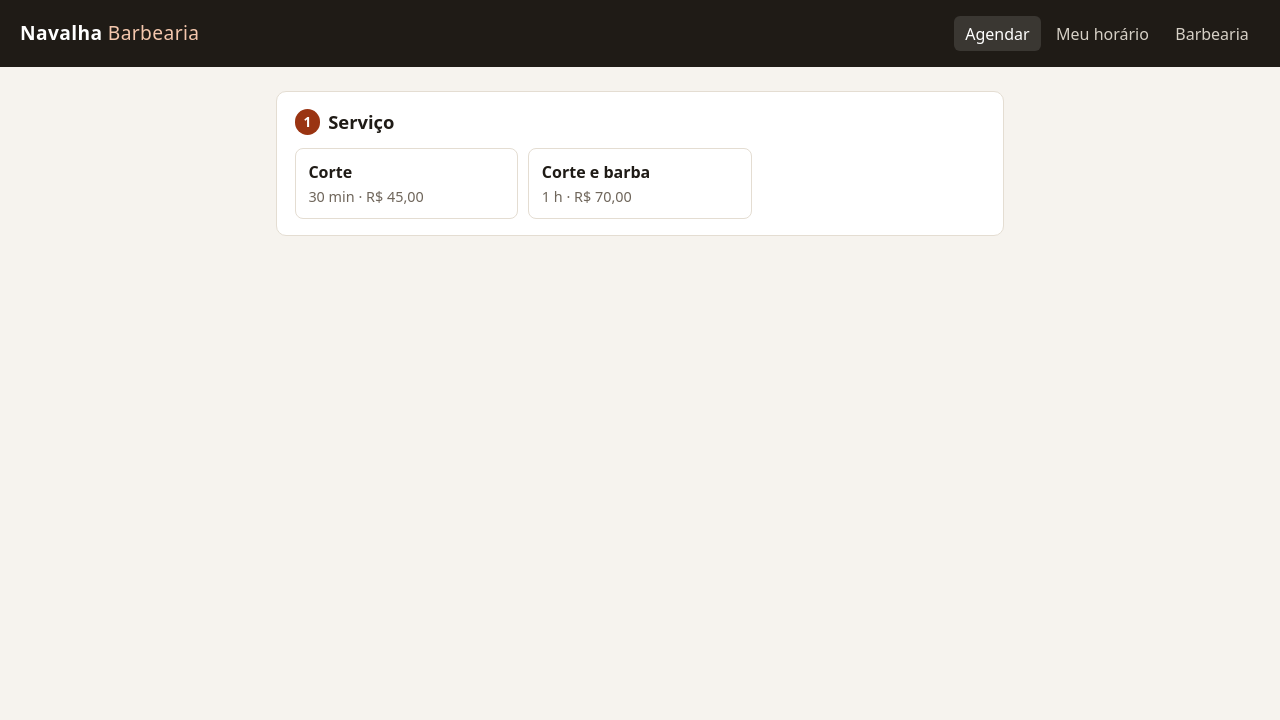
Test: marcar horário › horário ocupado por outra pessoa: avisa e recarrega a lista
This screenshot has width=1280, height=720.
Click the button "Corte 30 min · R$ 45,00".
click(407, 184)  # box [295,148,518,219]
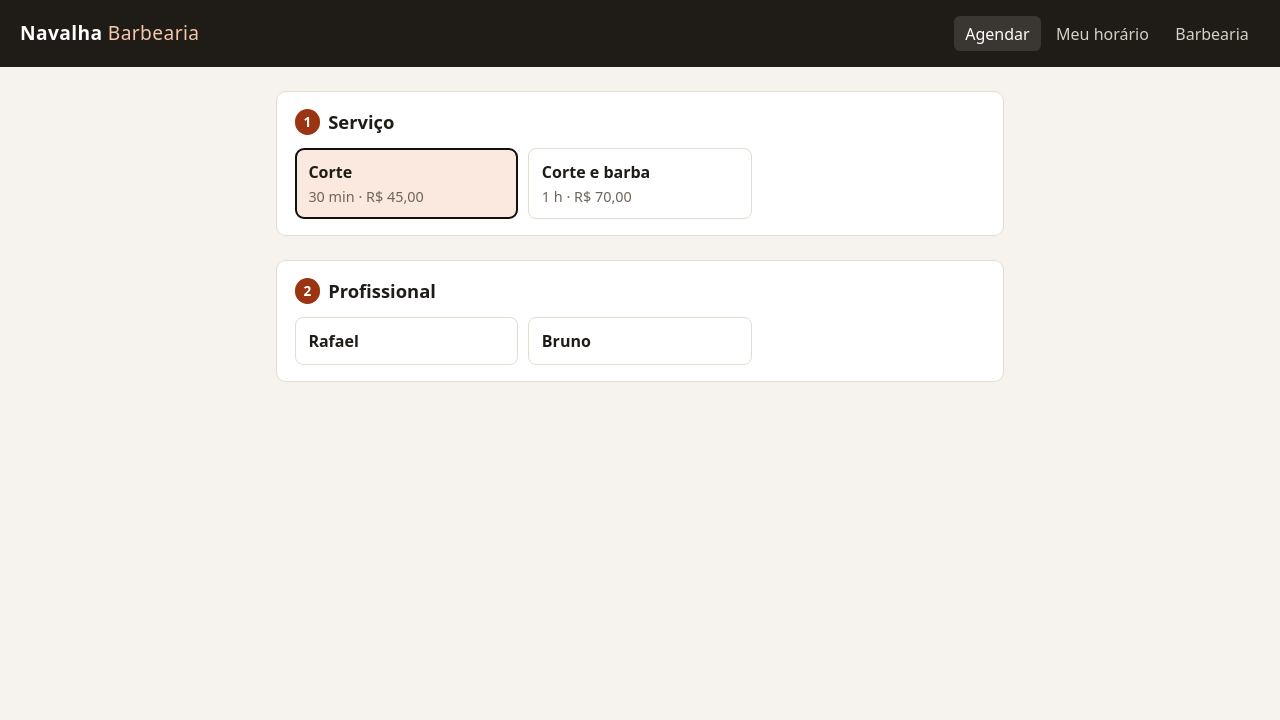
Click the button "Rafael".
click(407, 341)  # box [295,317,518,365]
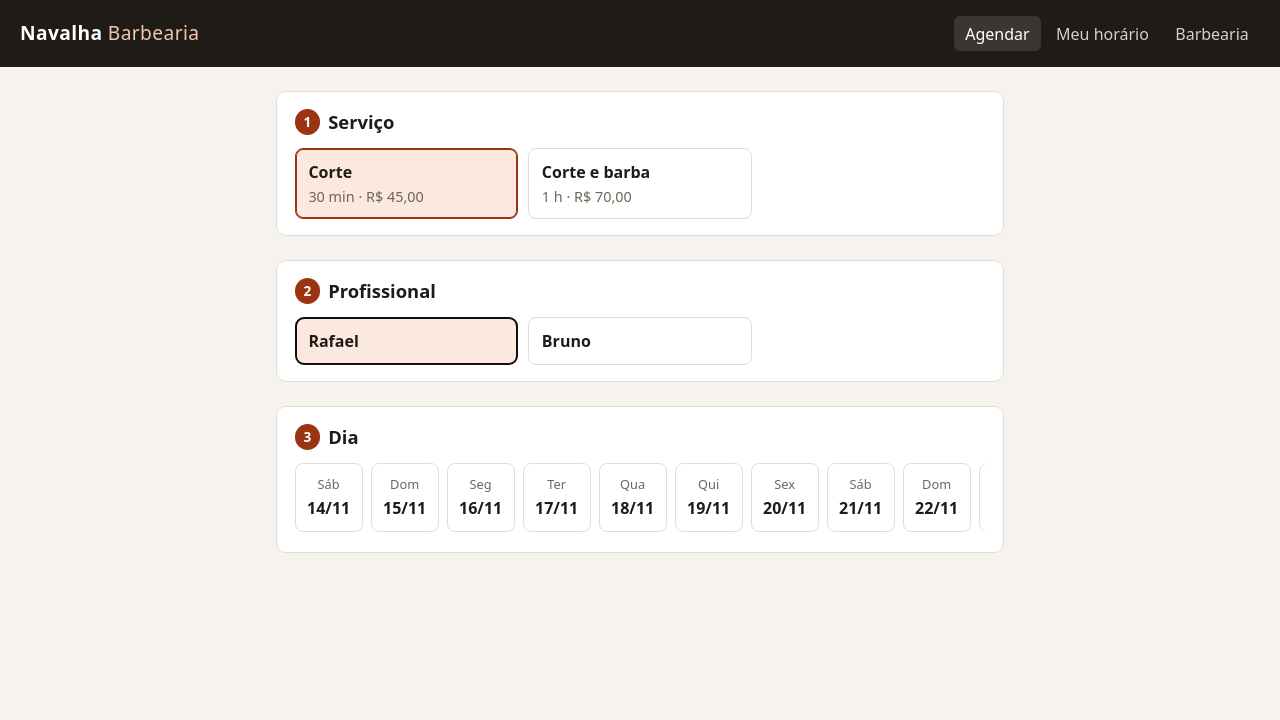
Click the button "dom 15/11".
click(405, 498)  # box [371,463,439,532]
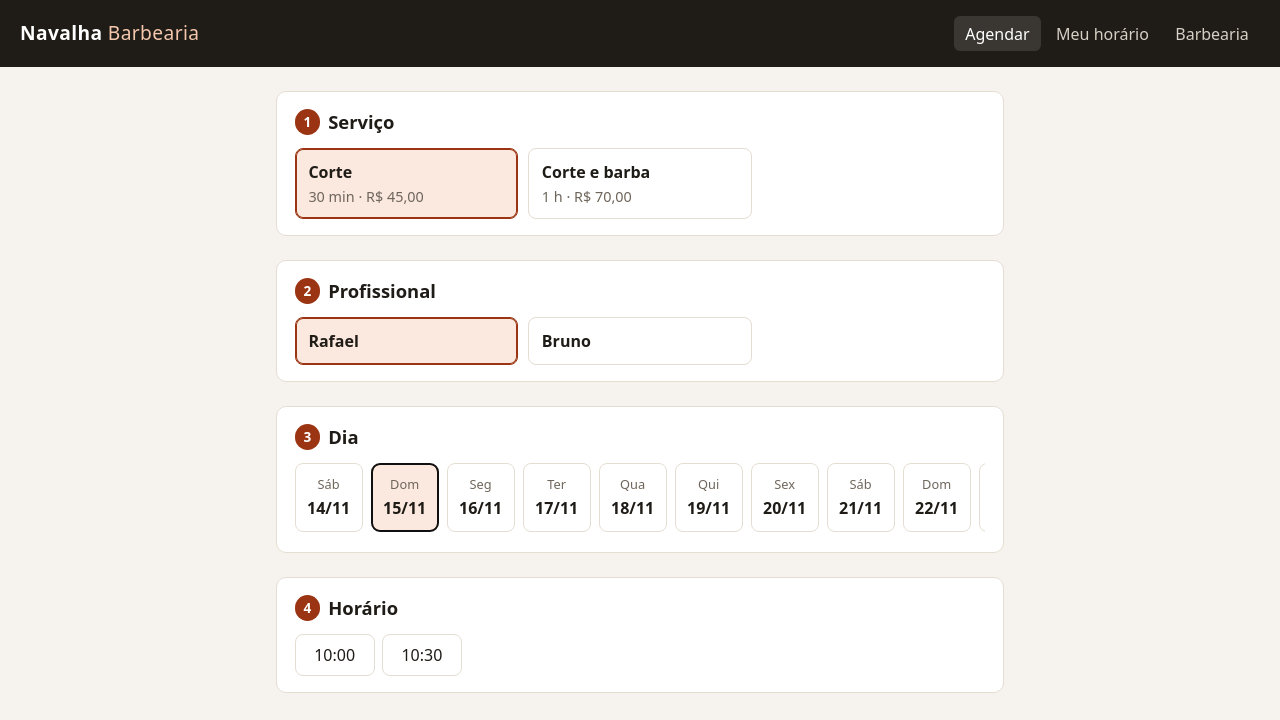
Click the button "10:00".
click(335, 655)  # box [295,634,375,676]
(page scrolled)
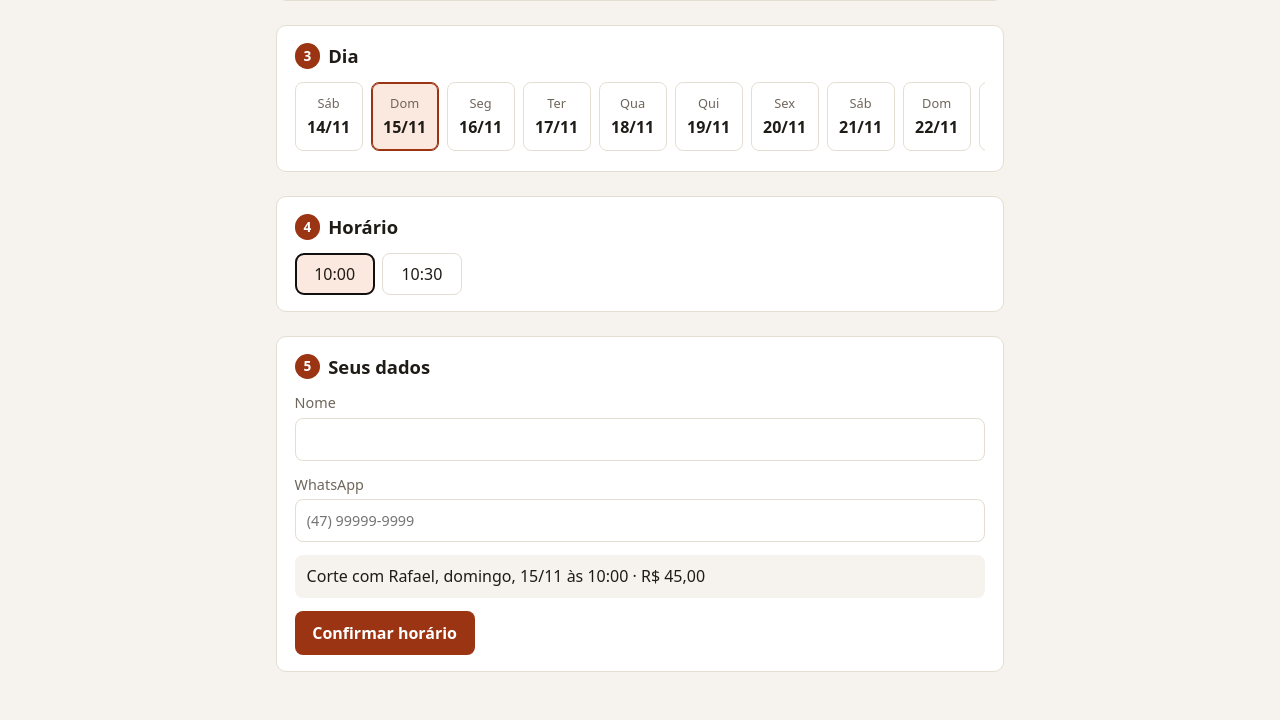
Type "Lobo" into the field labelled "Nome".
click(640, 439); type("Lobo")  # box [295,418,985,461]
Type "47999991234" into the field labelled "WhatsApp".
click(640, 520); type("47999991234")  # box [295,499,985,542]
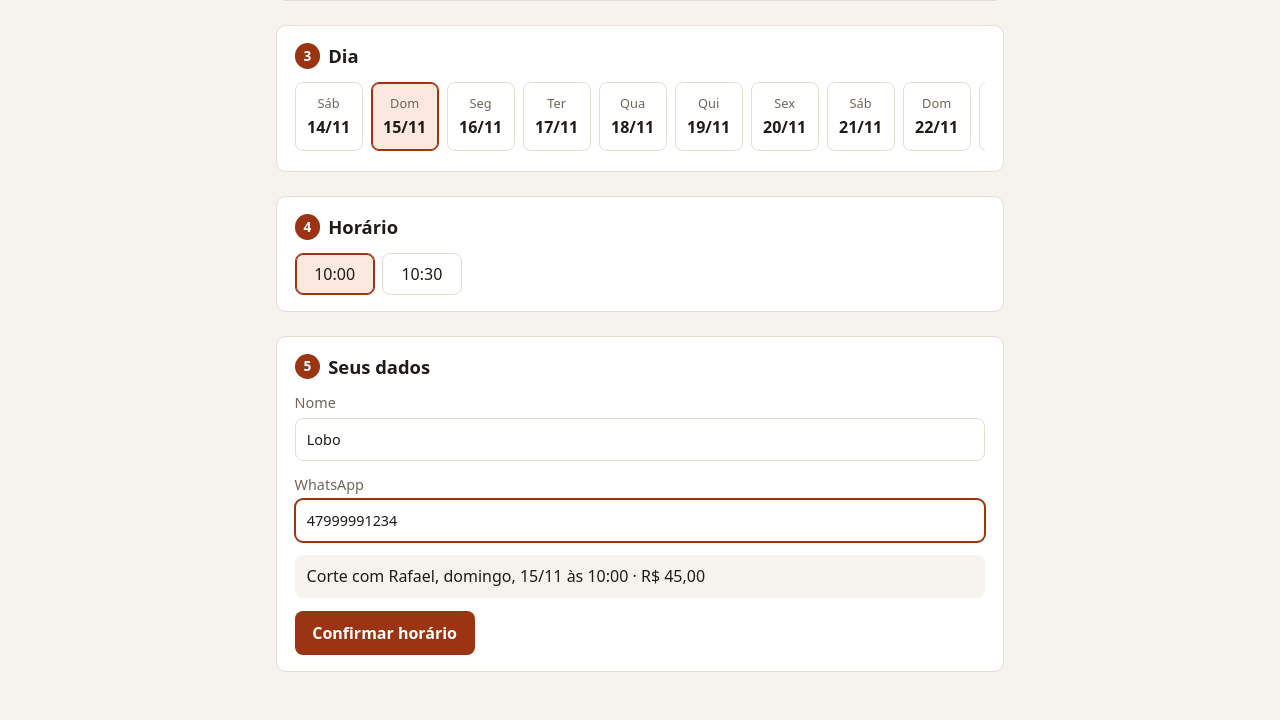
Click the button "Confirmar horário".
click(385, 633)  # box [295,611,475,656]
(page scrolled)
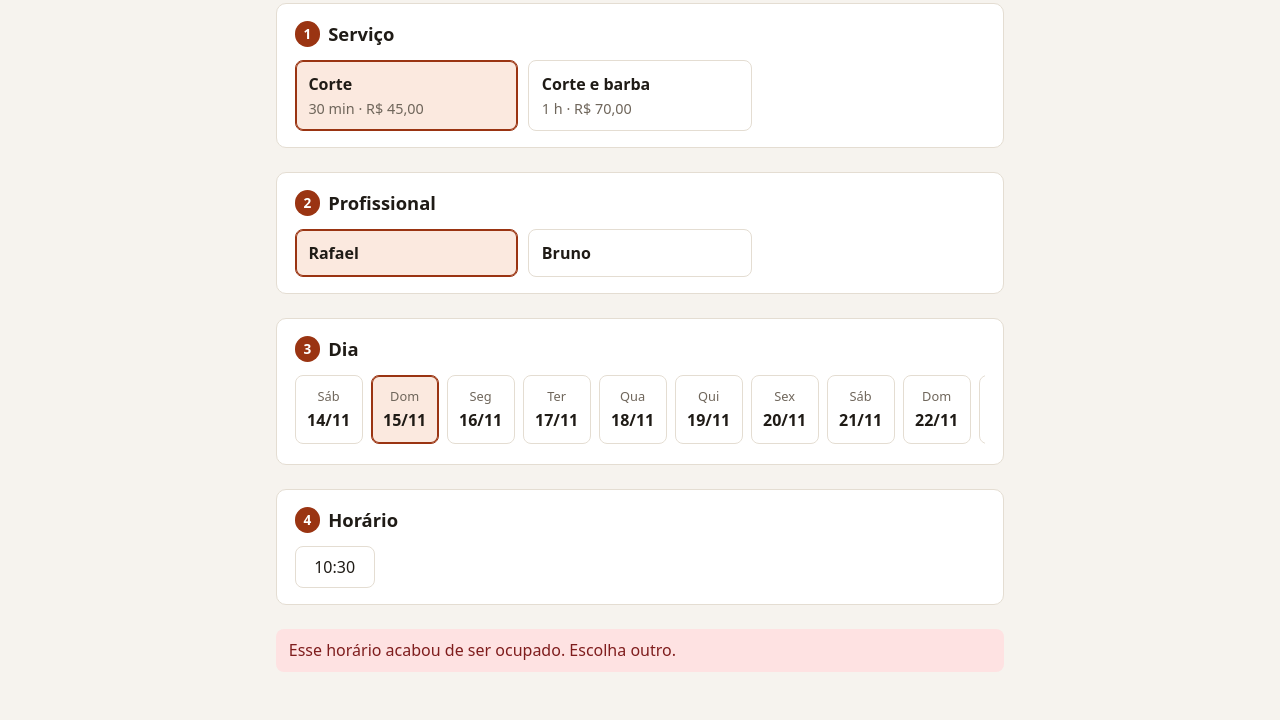
Expected: the button "10:30" is shown, [295,546,375,588]
Expected: the message shows "acabou de ser ocupado", [289,639,676,661]
Expected: the button "10:00" is gone
